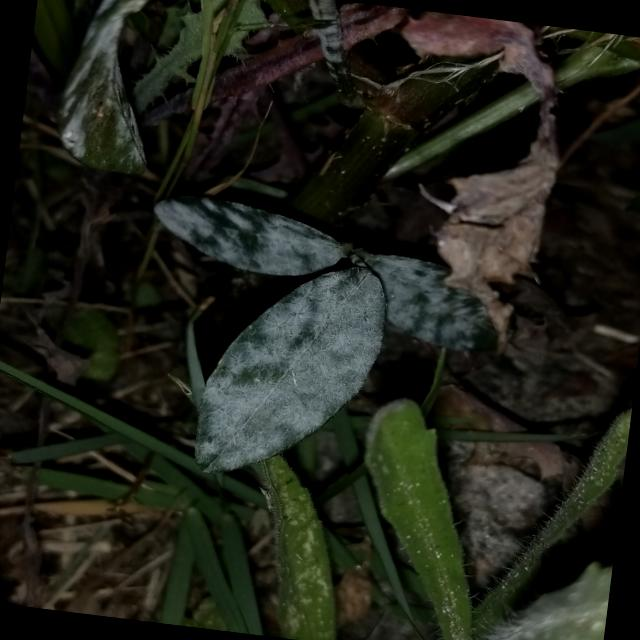powdery_mildew: (192, 266, 385, 472), (155, 196, 350, 275), (360, 251, 497, 350)
